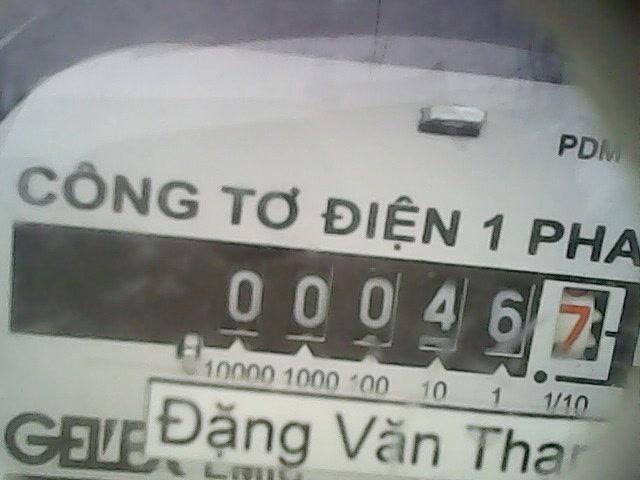phy_plate: (211, 250, 631, 378)
